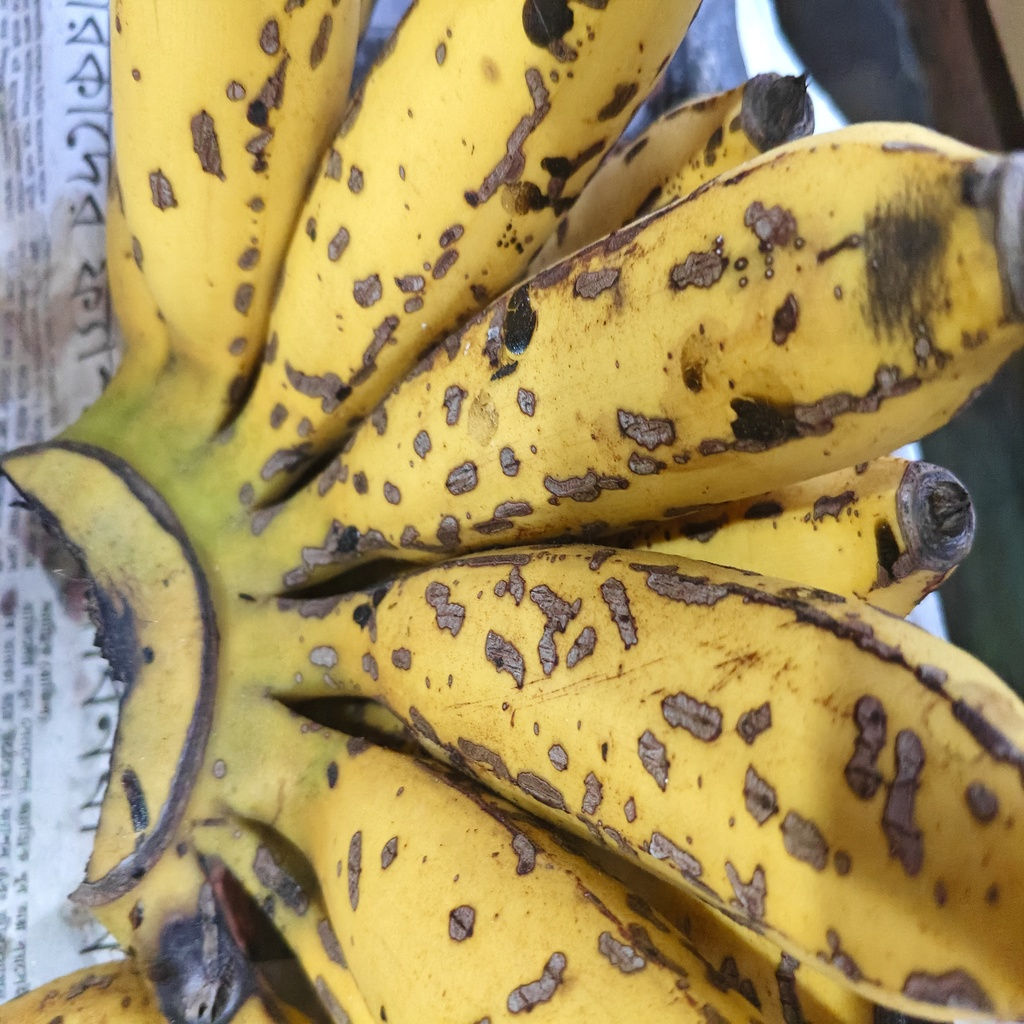unhealthy: (335, 541, 1024, 1017), (334, 121, 1022, 565), (267, 2, 703, 405)
